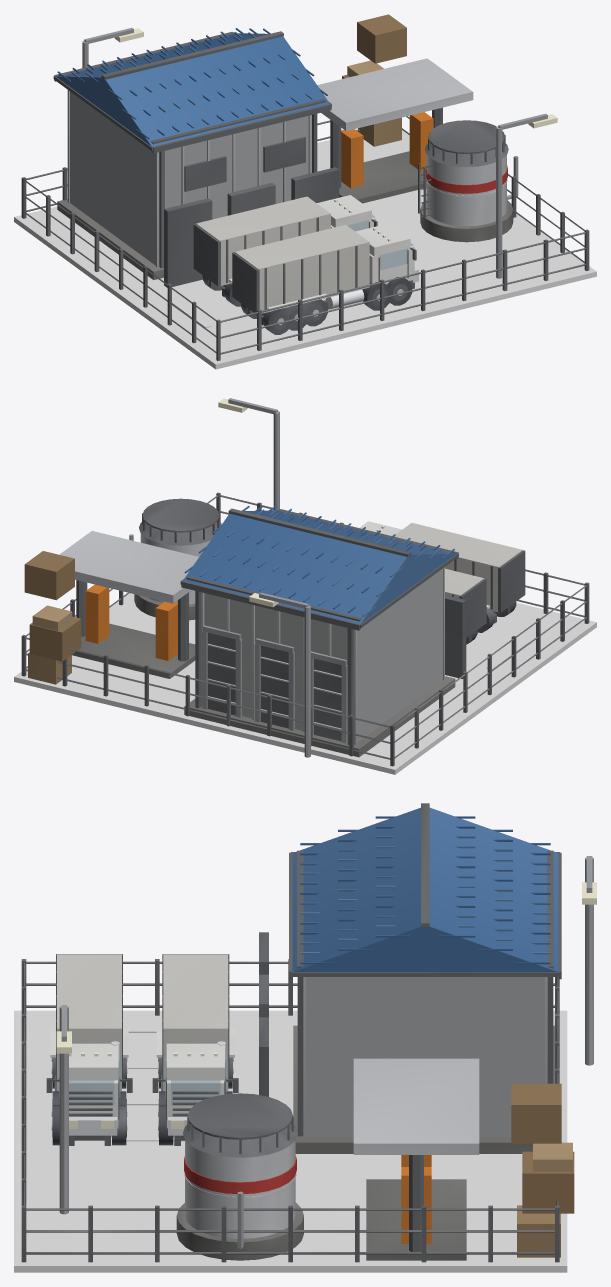
The model's file is Fleet_P2.fbx.
The picture shows the model from 3 angles, top to bottom: view 1: azimuth 30°, elevation 25°; view 2: azimuth 150°, elevation 25°; view 3: azimuth 270°, elevation 25°; orthographic projection. The views are drawn at different scales.
Parts seen in each view (by area): view 1: Fleet.Garage, Fleet.Yard, Fleet.Parked1, Fleet.FuelIsland, Fleet.FuelTank, Fleet.Fence, Fleet.Parked0, Fleet.Doors, Fleet.Crates, Fleet.Lamp1, Fleet.Lamp0; view 2: Fleet.Garage, Fleet.Yard, Fleet.FuelIsland, Fleet.Fence, Fleet.Crates, Fleet.Parked1, Fleet.FuelTank, Fleet.Parked0, Fleet.Doors, Fleet.Lamp0, Fleet.Lamp1; view 3: Fleet.Garage, Fleet.Yard, Fleet.FuelIsland, Fleet.FuelTank, Fleet.Parked1, Fleet.Parked0, Fleet.Fence, Fleet.Crates, Fleet.Lamp1, Fleet.Lamp0, Fleet.Doors, Fleet.Bays.
Boxes of the visible parts, x1,y1,x2,y2 form: Fleet.Garage: [53, 28, 331, 279]; Fleet.Yard: [14, 130, 596, 369]; Fleet.Parked1: [232, 223, 418, 334]; Fleet.FuelIsland: [317, 58, 473, 203]; Fleet.FuelTank: [418, 120, 518, 242]; Fleet.Fence: [21, 116, 589, 360]; Fleet.Parked0: [193, 195, 377, 306]; Fleet.Doors: [164, 167, 339, 287]; Fleet.Crates: [342, 14, 406, 146]; Fleet.Lamp1: [496, 113, 557, 278]; Fleet.Lamp0: [82, 28, 143, 67]; Fleet.Garage: [180, 505, 458, 757]; Fleet.Yard: [14, 593, 596, 774]; Fleet.FuelIsland: [59, 531, 198, 678]; Fleet.Fence: [21, 492, 589, 766]; Fleet.Crates: [24, 551, 81, 684]; Fleet.Parked1: [359, 521, 525, 632]; Fleet.FuelTank: [129, 498, 221, 620]; Fleet.Parked0: [445, 568, 486, 644]; Fleet.Doors: [445, 595, 466, 678]; Fleet.Lamp0: [249, 592, 310, 757]; Fleet.Lamp1: [218, 398, 279, 510]; Fleet.Garage: [289, 803, 561, 1153]; Fleet.Yard: [14, 1010, 567, 1272]; Fleet.FuelIsland: [353, 1058, 479, 1260]; Fleet.FuelTank: [176, 1093, 303, 1260]; Fleet.Parked1: [46, 954, 132, 1145]; Fleet.Parked0: [152, 954, 238, 1145]; Fleet.Fence: [21, 959, 559, 1262]; Fleet.Crates: [511, 1083, 574, 1257]; Fleet.Lamp1: [56, 1005, 71, 1214]; Fleet.Lamp0: [582, 856, 596, 1065]; Fleet.Doors: [259, 932, 268, 1096]; Fleet.Bays: [126, 1028, 184, 1141].
Size of the model in its own units: 2422 by 1050 by 2318.
